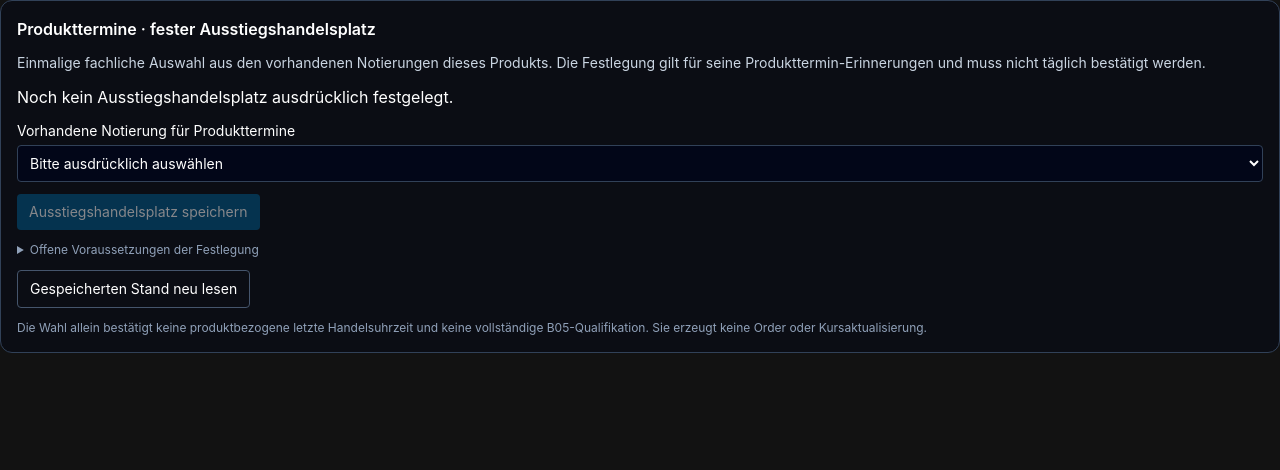
Test: does not retry an ambiguous write and preserves uncertainty when rereading also fails
Select "Synthetischer Handelsplatz · XSYN · EUR · SYNTHETIC" in the dropdown labelled "Vorhandene Notierung für Produkttermine": (640, 164) top-left (17, 145), bottom-right (1263, 182)
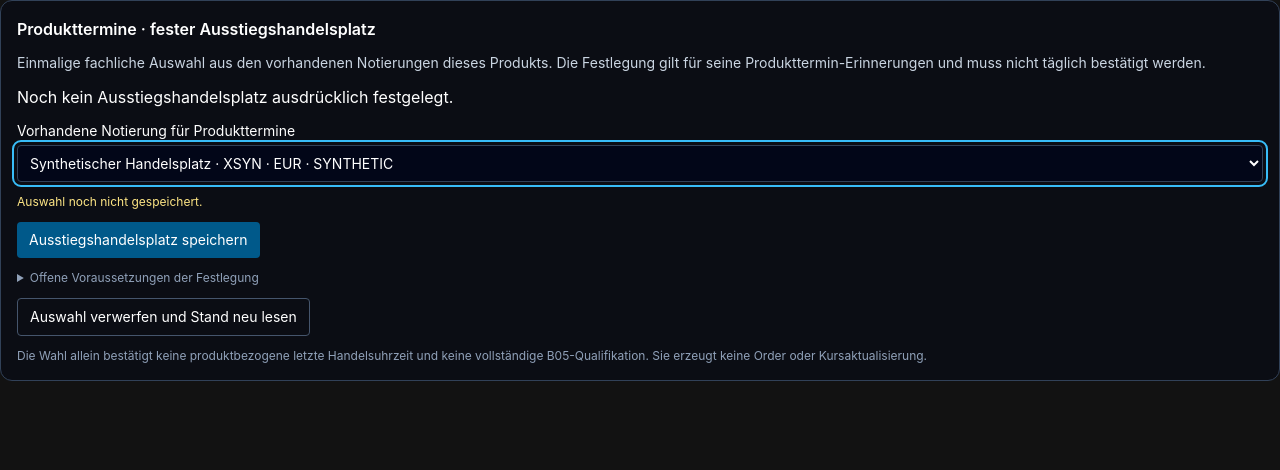
Click the button "Ausstiegshandelsplatz speichern": click(138, 240) top-left (17, 222), bottom-right (260, 258)
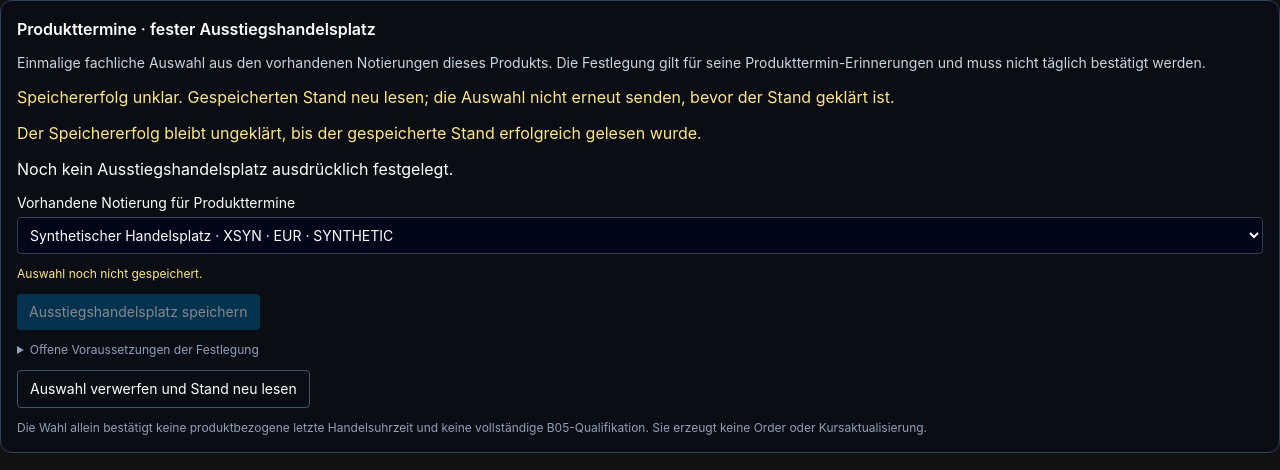
Now the message shows "Speichererfolg unklar", box top-left (17, 87), bottom-right (895, 107)
Click the button "Auswahl verwerfen und Stand neu lesen": click(163, 389) top-left (17, 370), bottom-right (310, 408)
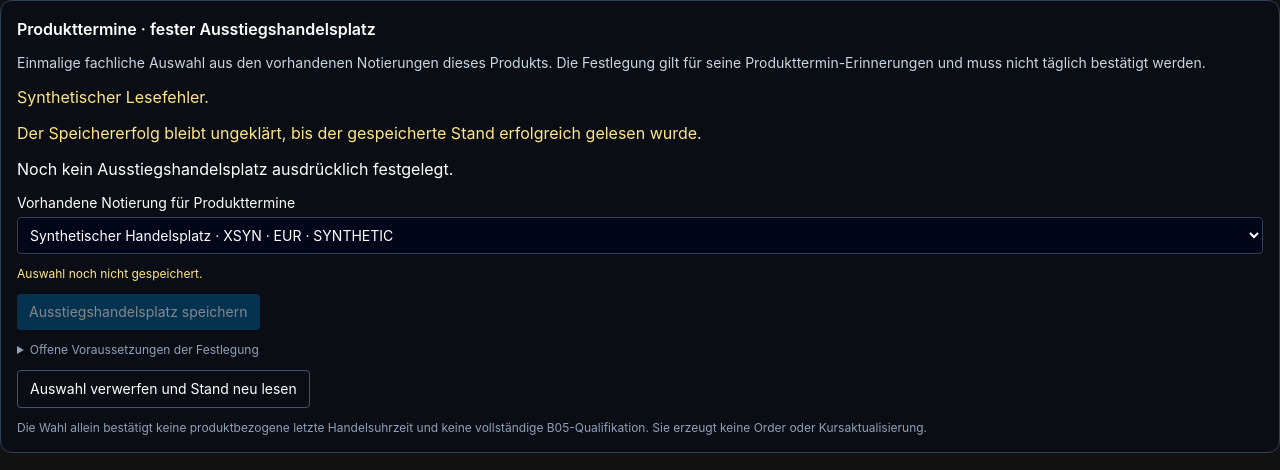
Now the text "Der Speichererfolg bleibt ungeklärt" is shown, box top-left (17, 123), bottom-right (702, 143)
Now the button "Ausstiegshandelsplatz speichern" is disabled, box top-left (17, 294), bottom-right (260, 330)
Now the message reads "Synthetischer Lesefehler.", box top-left (17, 87), bottom-right (209, 107)
